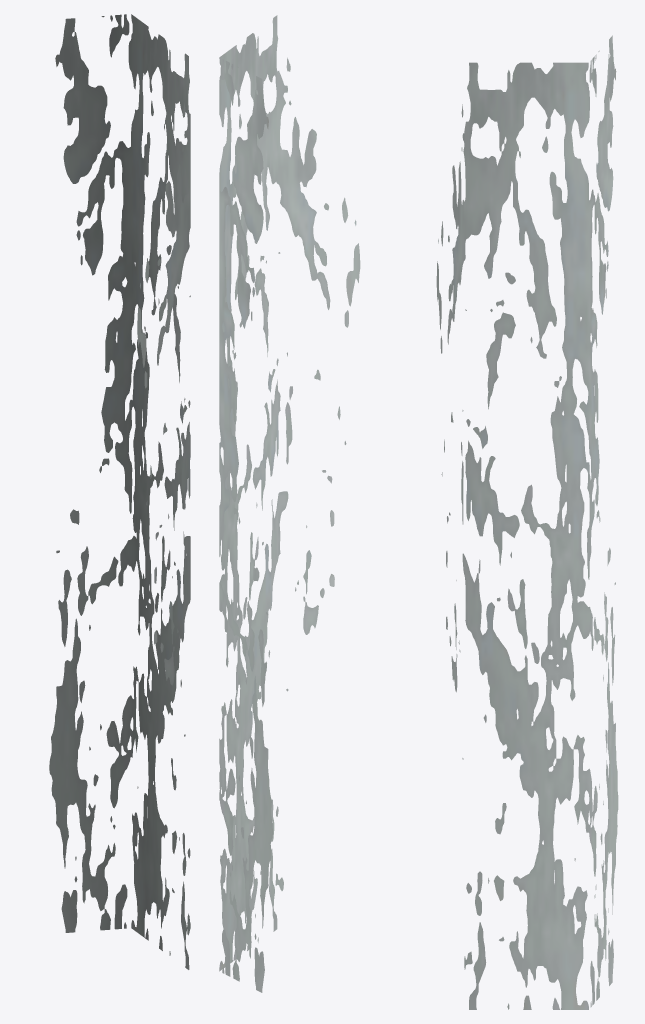
The model's file is fountainparticles.glb.
3 renders of one model, left to right at view 1: azimuth 30°, elevation 25°; view 2: azimuth 150°, elevation 25°; view 3: azimuth 270°, elevation 25°, orthographic. The views are drawn at different scales.
Size of the model in its own units: 0.6883 by 6.23 by 1.23.
1 material, 1 textured.
